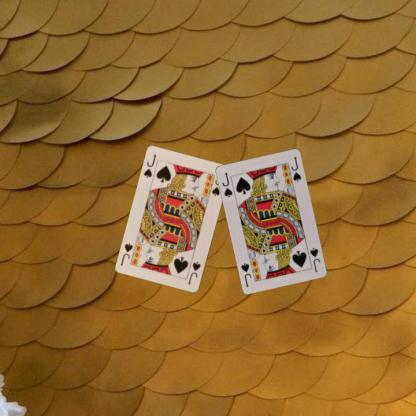Js: (141, 152, 158, 180), (185, 259, 202, 286), (307, 245, 322, 273), (220, 170, 234, 199)
